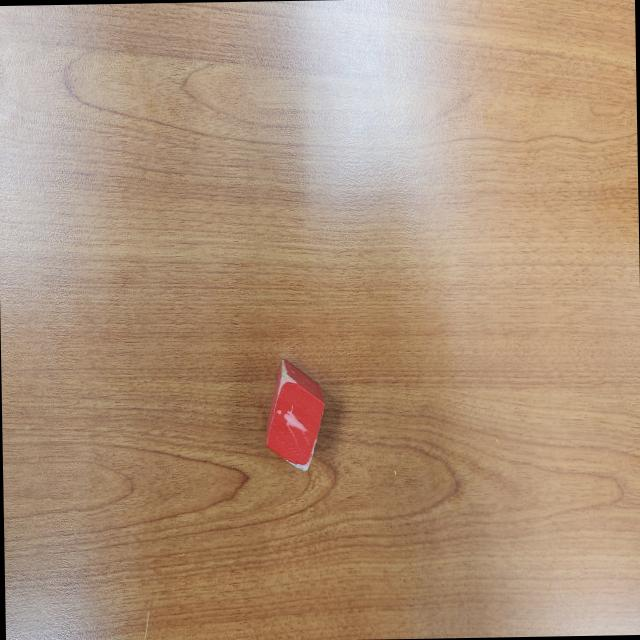broken: (264, 357, 326, 478)
